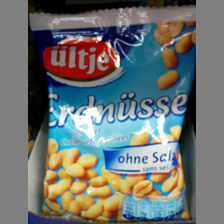nuts: (29, 5, 195, 224)
